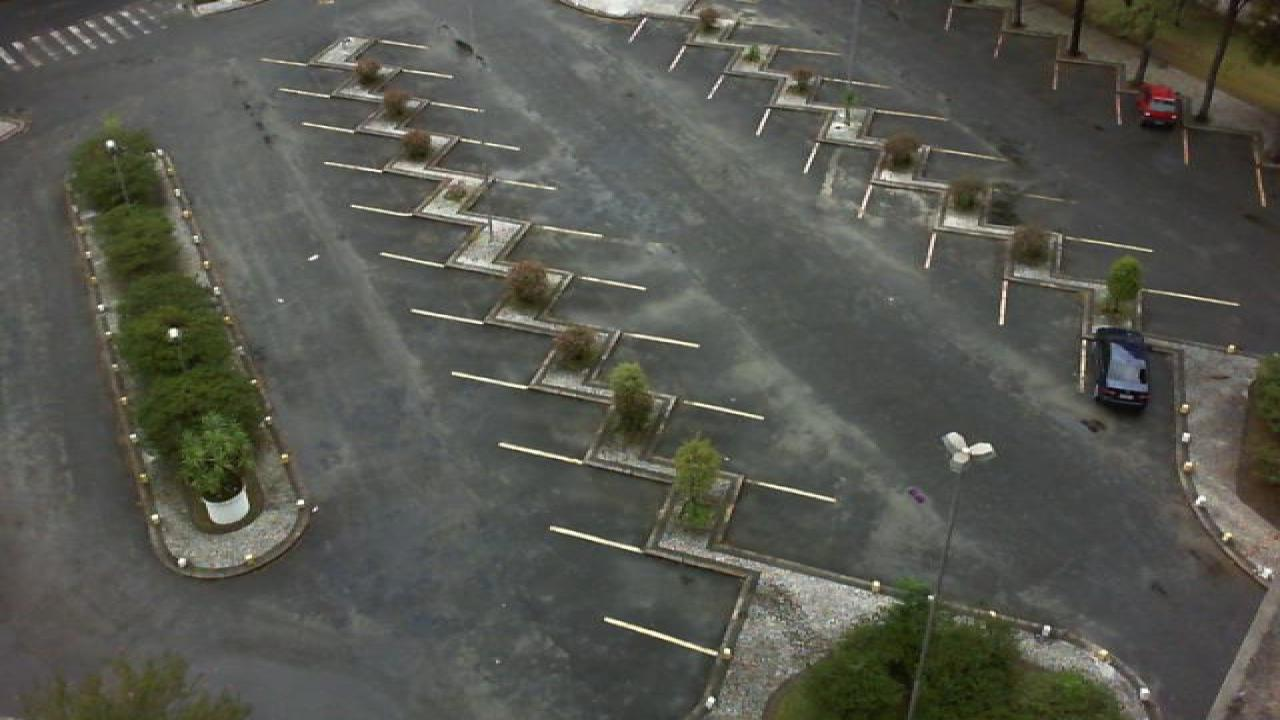Car: (1090, 324, 1154, 411), (1134, 82, 1180, 128)
